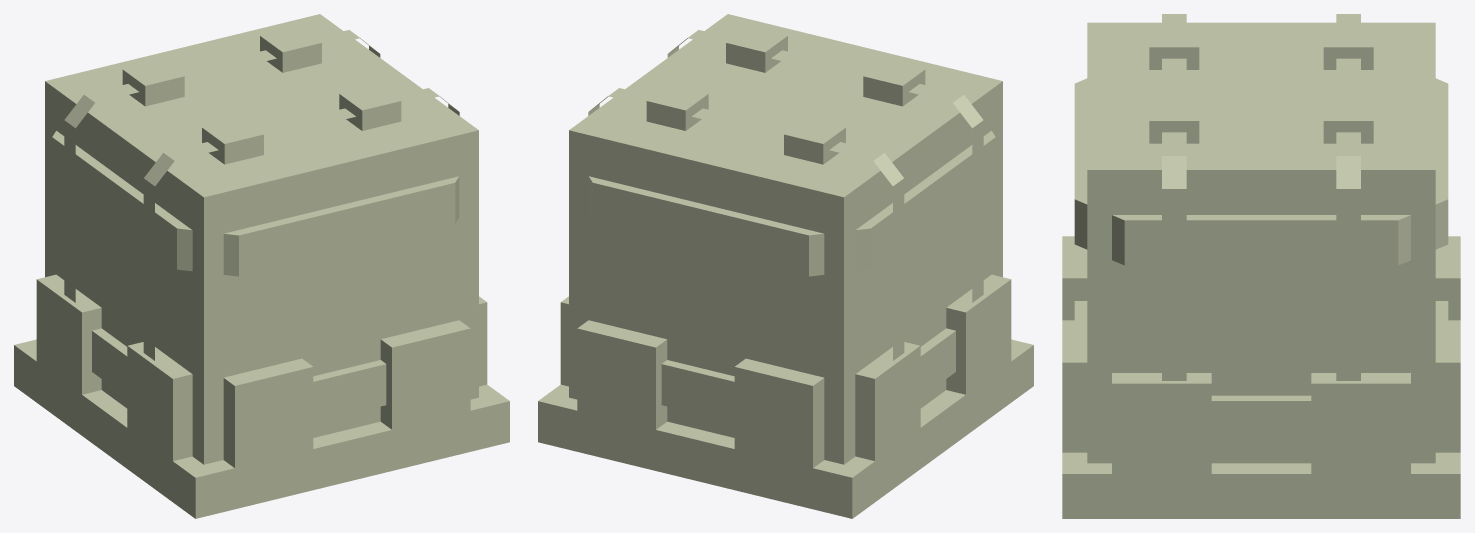
Rendered from machine_battery_socket.obj.
3 renders of one model, left to right at view 1: azimuth 30°, elevation 25°; view 2: azimuth 150°, elevation 25°; view 3: azimuth 270°, elevation 25°, orthographic. The views are drawn at different scales.
Visible parts, largest first — view 1: Capacitor, Socket, Battery; view 2: Capacitor, Socket, Battery; view 3: Capacitor, Socket, Battery.
Part boxes in pixels (left/top/right/bottom): Capacitor: left=45, top=14, right=478, bottom=464; Socket: left=14, top=26, right=509, bottom=518; Battery: left=52, top=64, right=461, bottom=423; Capacitor: left=569, top=14, right=1002, bottom=464; Socket: left=538, top=26, right=1033, bottom=518; Battery: left=586, top=27, right=995, bottom=423; Capacitor: left=1087, top=22, right=1435, bottom=463; Socket: left=1062, top=14, right=1460, bottom=518; Battery: left=1074, top=22, right=1448, bottom=462.
Bounding box in the file's own units: 2 × 2 × 2.
